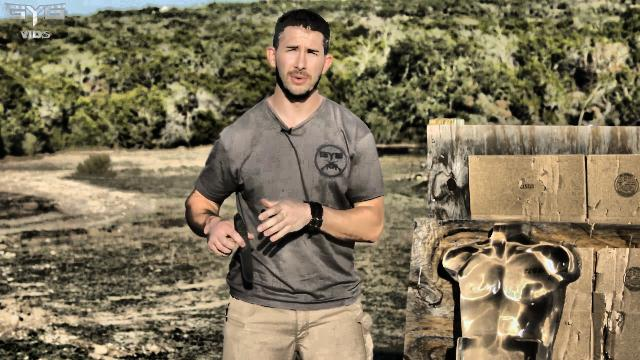knife: (214, 214, 258, 290)
